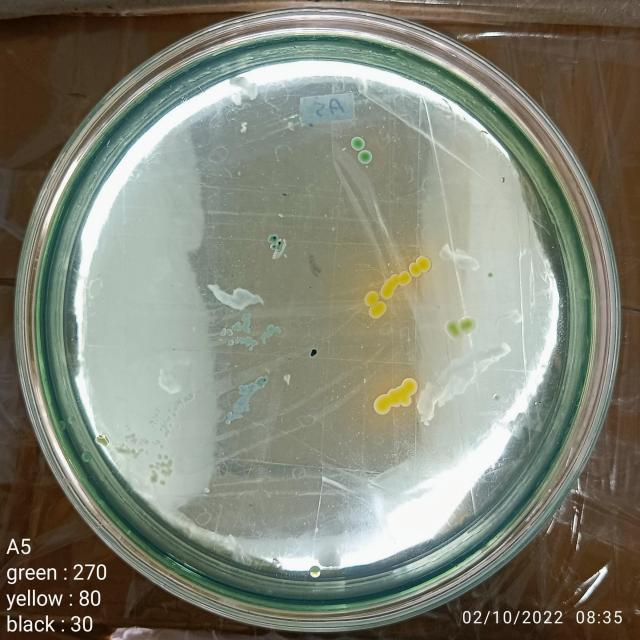black: (309, 348, 318, 358), (269, 234, 278, 242), (269, 243, 277, 250), (277, 238, 283, 246), (274, 246, 282, 252), (262, 377, 267, 383)
green: (445, 319, 463, 341), (458, 316, 476, 333), (350, 136, 365, 151), (358, 150, 372, 164), (81, 451, 92, 463), (57, 420, 67, 432), (240, 312, 252, 322), (244, 336, 251, 347), (226, 328, 234, 337), (220, 328, 227, 337), (224, 418, 232, 425), (276, 326, 282, 334), (252, 339, 258, 346), (228, 340, 234, 346), (234, 338, 240, 344), (226, 412, 232, 418), (240, 337, 244, 345), (231, 325, 236, 331), (488, 272, 493, 278), (261, 335, 266, 340), (249, 346, 253, 352), (246, 328, 250, 334), (245, 408, 250, 412), (246, 403, 250, 408), (262, 340, 266, 344), (264, 332, 268, 336), (240, 404, 244, 408)
yellow: (373, 394, 391, 416), (368, 300, 387, 320), (402, 377, 418, 396), (416, 255, 432, 273), (364, 290, 379, 306), (389, 388, 401, 408), (381, 283, 394, 300), (409, 262, 422, 278), (399, 270, 412, 286), (400, 393, 412, 408), (310, 566, 322, 579), (390, 273, 400, 286), (386, 279, 396, 290)
